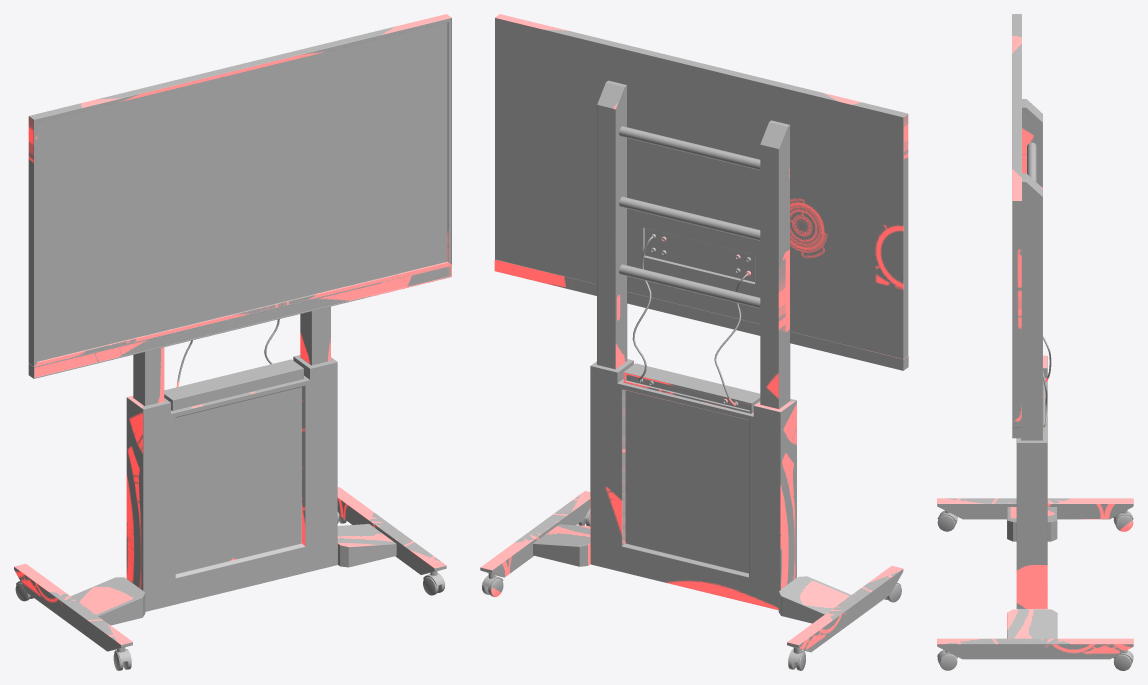
File: SM_StandingTVFix.fbx
3 renders of one model, left to right at view 1: azimuth 30°, elevation 25°; view 2: azimuth 150°, elevation 25°; view 3: azimuth 270°, elevation 25°, orthographic. The views are drawn at different scales.
Parts seen in each view (by area): view 1: SM_StandingTVFix_LOD0; view 2: SM_StandingTVFix_LOD0; view 3: SM_StandingTVFix_LOD0.
Part boxes in pixels (bbox=[...]): SM_StandingTVFix_LOD0: bbox=[14, 14, 451, 670]; SM_StandingTVFix_LOD0: bbox=[480, 14, 908, 670]; SM_StandingTVFix_LOD0: bbox=[937, 14, 1133, 670].
Size of the model in its own units: 186 by 82.46 by 228.
